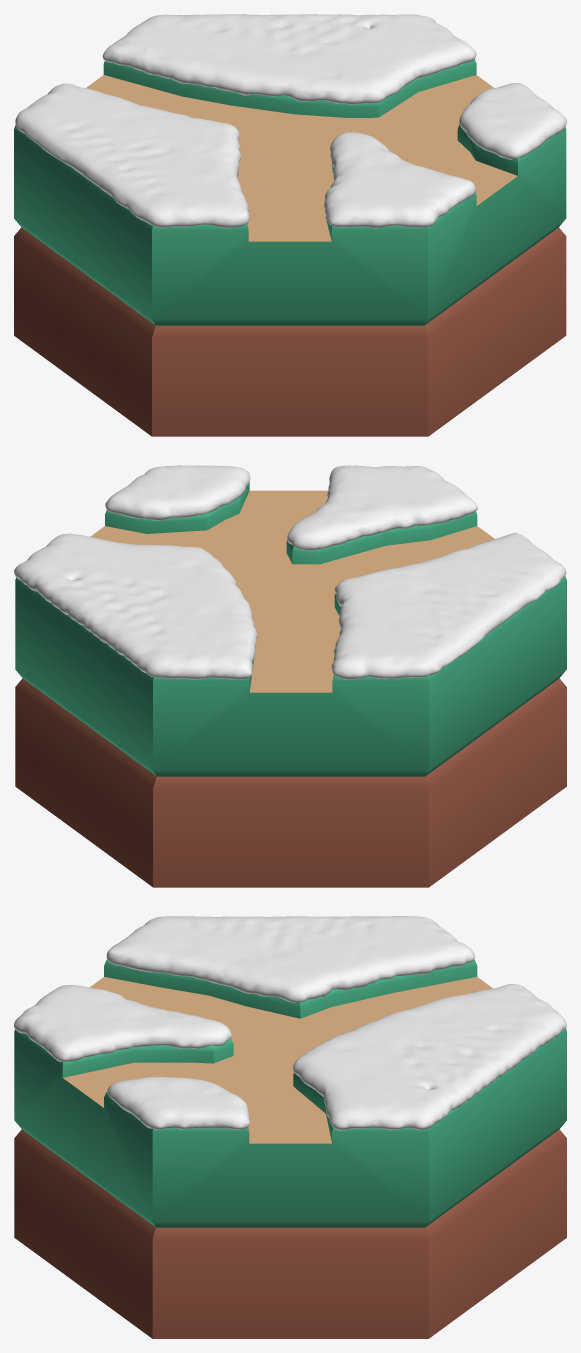
Rendered from snow_hex_forest_roadI_detail.fbx.
3 views of the same model, one above another, from view 1: azimuth 30°, elevation 25°; view 2: azimuth 150°, elevation 25°; view 3: azimuth 270°, elevation 25° (orthographic).
Visible parts, largest first — view 1: hex_forest_roadI_detail.002, SnowBall.001, hex_forest_roadI_detail.001, hex_forest_roadI_detail; view 2: hex_forest_roadI_detail.002, SnowBall.001, hex_forest_roadI_detail.001, hex_forest_roadI_detail; view 3: hex_forest_roadI_detail.002, SnowBall.001, hex_forest_roadI_detail.001, hex_forest_roadI_detail.
Boxes of the visible parts, x1,y1,x2,y2 form: hex_forest_roadI_detail.002: (14, 227, 566, 436); SnowBall.001: (15, 14, 566, 228); hex_forest_roadI_detail.001: (14, 59, 566, 325); hex_forest_roadI_detail: (86, 75, 517, 241); hex_forest_roadI_detail.002: (15, 678, 566, 887); SnowBall.001: (14, 465, 566, 679); hex_forest_roadI_detail.001: (15, 483, 566, 776); hex_forest_roadI_detail: (90, 490, 494, 692); hex_forest_roadI_detail.002: (14, 1129, 566, 1338); SnowBall.001: (14, 916, 566, 1130); hex_forest_roadI_detail.001: (14, 959, 566, 1227); hex_forest_roadI_detail: (63, 977, 492, 1143).
Size of the model in its own units: 204 by 104 by 231.
